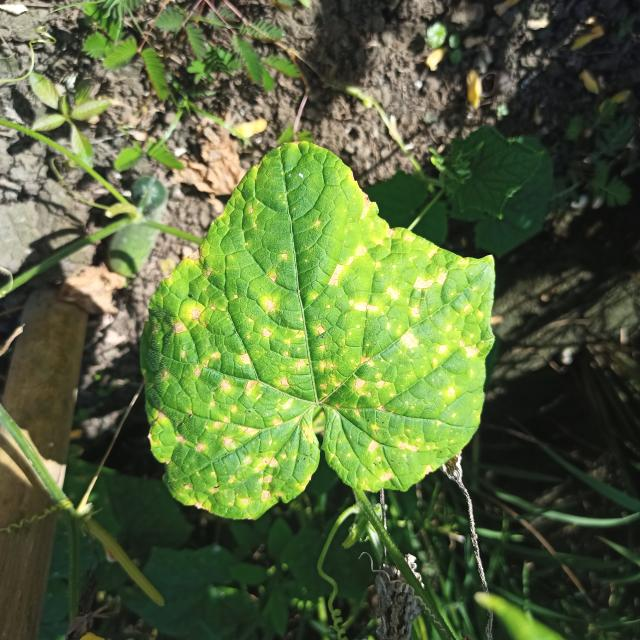disease_cucumber: (147, 188, 487, 517)
